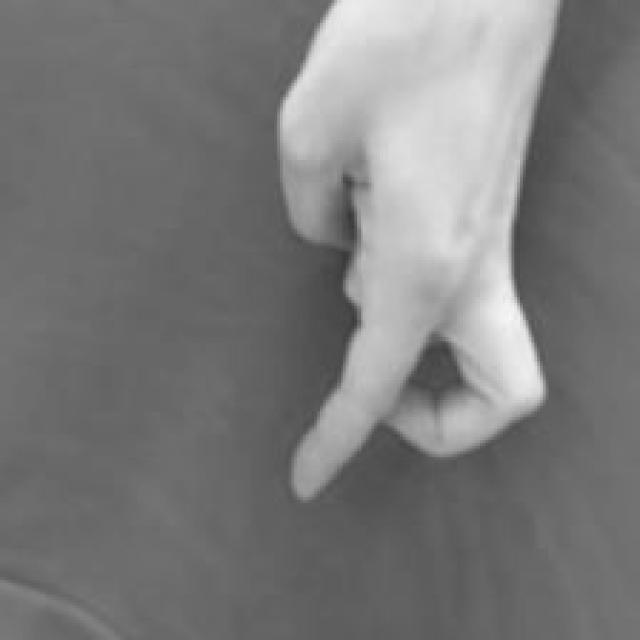P: (260, 0, 560, 503)
